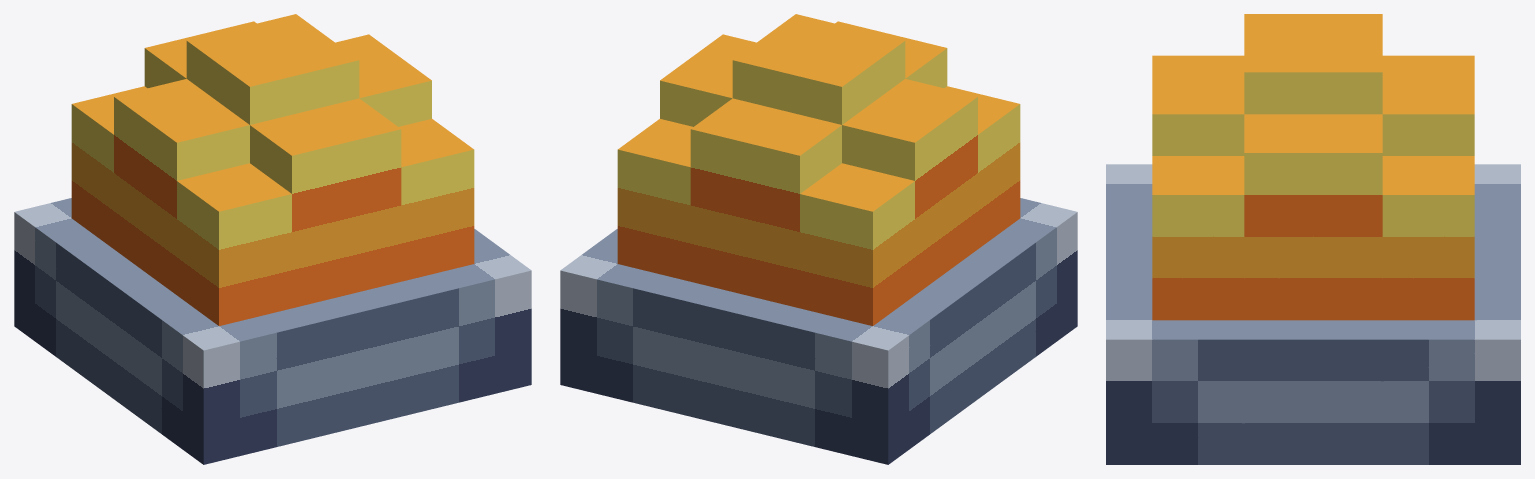
File: ore.dae
3 renders of one model, left to right at view 1: azimuth 30°, elevation 25°; view 2: azimuth 150°, elevation 25°; view 3: azimuth 270°, elevation 25°, orthographic. The views are drawn at different scales.
Visible parts, largest first — view 1: cuboid (×9); view 2: cuboid (×9); view 3: cuboid (×7).
Boxes of the visible parts, box(x1,y1,x2,y2) form: cuboid (×9): box(14, 14, 531, 464); cuboid (×9): box(560, 14, 1077, 464); cuboid (×7): box(1106, 14, 1520, 464).
Bounding box in the file's own units: 0.5625 × 0.5 × 0.5625.
1 material, 1 textured.
